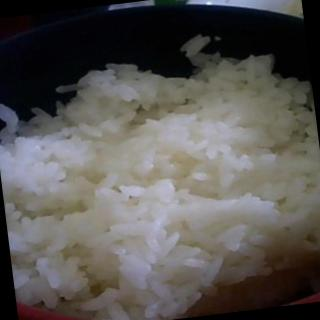Nasi: (1, 21, 320, 320)
